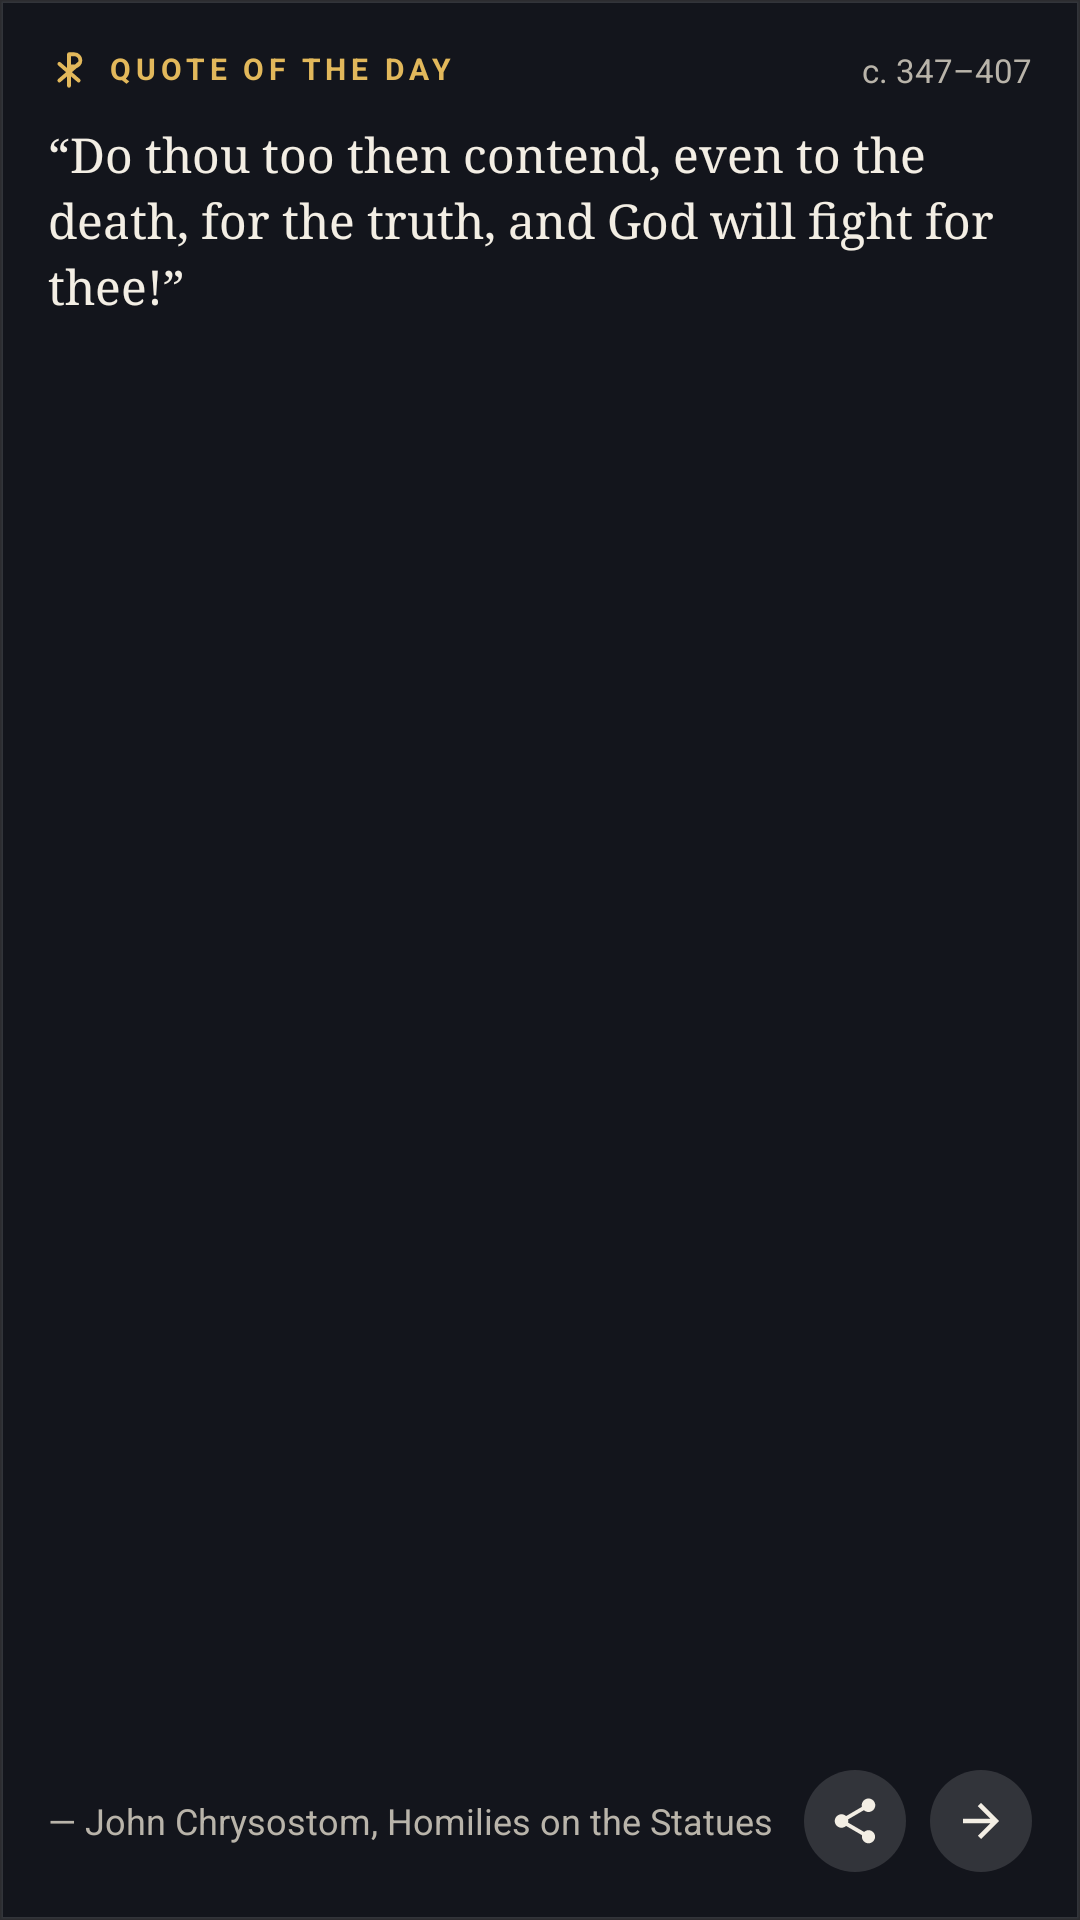

Screen size 1080*1920. Icon name, then its box in pixels as (x1, y1, x2, y2):
Next: (930, 1770, 1032, 1872)
Share: (804, 1770, 906, 1872)
